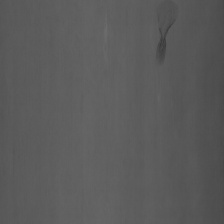water_spot: (152, 3, 179, 69)
